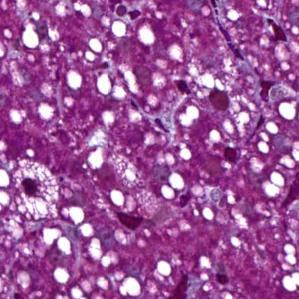ballooning: (10, 158, 62, 221)
